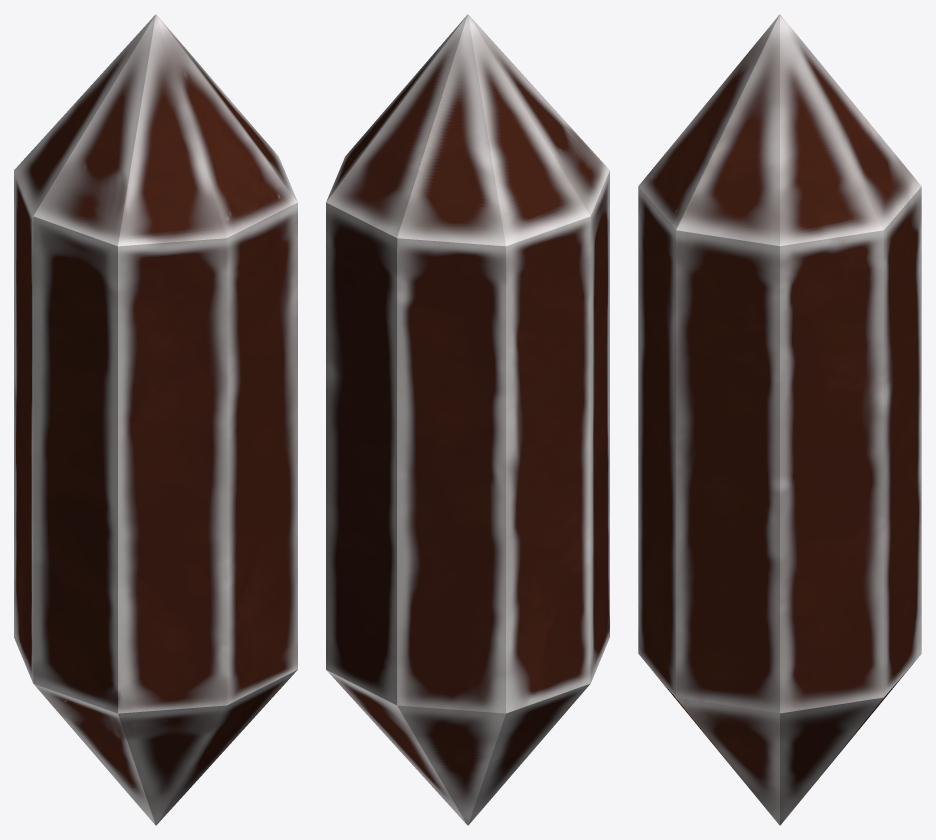
File: crystal_earth.glb
3 views of the same model, side by side, from view 1: azimuth 30°, elevation 25°; view 2: azimuth 150°, elevation 25°; view 3: azimuth 270°, elevation 25° (orthographic).
Parts seen in each view (by area): view 1: Plane; view 2: Plane; view 3: Plane.
Part boxes in pixels (bbox=[...]): Plane: bbox=[14, 14, 297, 825]; Plane: bbox=[326, 14, 609, 825]; Plane: bbox=[638, 14, 921, 825].
Size of the model in its own units: 0.275 by 0.8689 by 0.275.
1 material, 1 textured.
